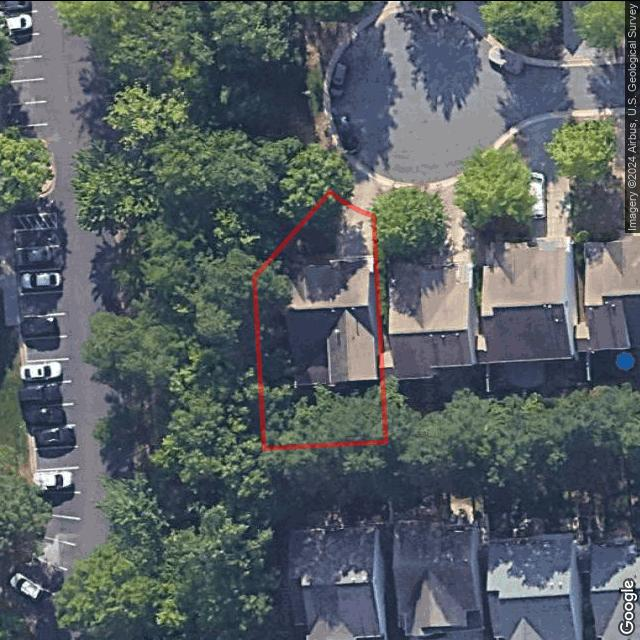Driveway: (334, 197, 373, 260)
Extra-Driveway: (341, 168, 389, 215)
Extra-Lawn: (327, 166, 355, 198)
House: (285, 258, 377, 386)
Lawn: (254, 190, 386, 448)
